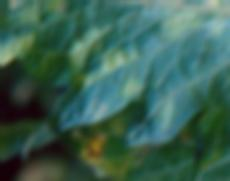Tomato mold leaf: (0, 0, 230, 178)
